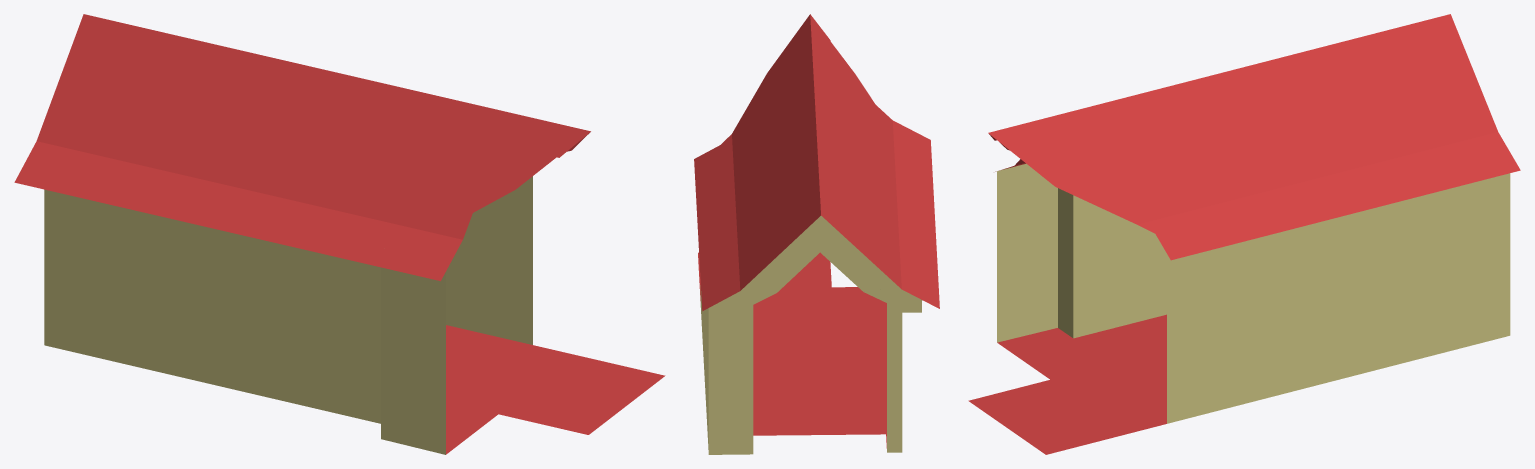
The picture shows the model from 3 angles, left to right: view 1: azimuth 30°, elevation 25°; view 2: azimuth 150°, elevation 25°; view 3: azimuth 270°, elevation 25°; orthographic projection. The views are drawn at different scales.
Bounding box in the file's own units: 33.73 × 36.52 × 19.97.
